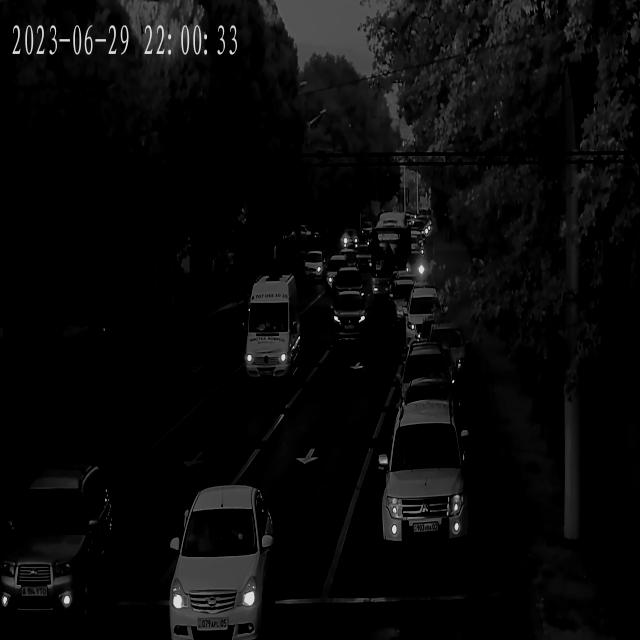Bus: (241, 273, 302, 390), (370, 212, 412, 305)
Car: (0, 456, 112, 625), (168, 482, 279, 640), (385, 402, 474, 560), (398, 338, 460, 438), (400, 289, 444, 354), (435, 318, 472, 390), (391, 270, 423, 335), (333, 296, 366, 348), (335, 268, 367, 315), (302, 251, 328, 289), (325, 254, 348, 294)
